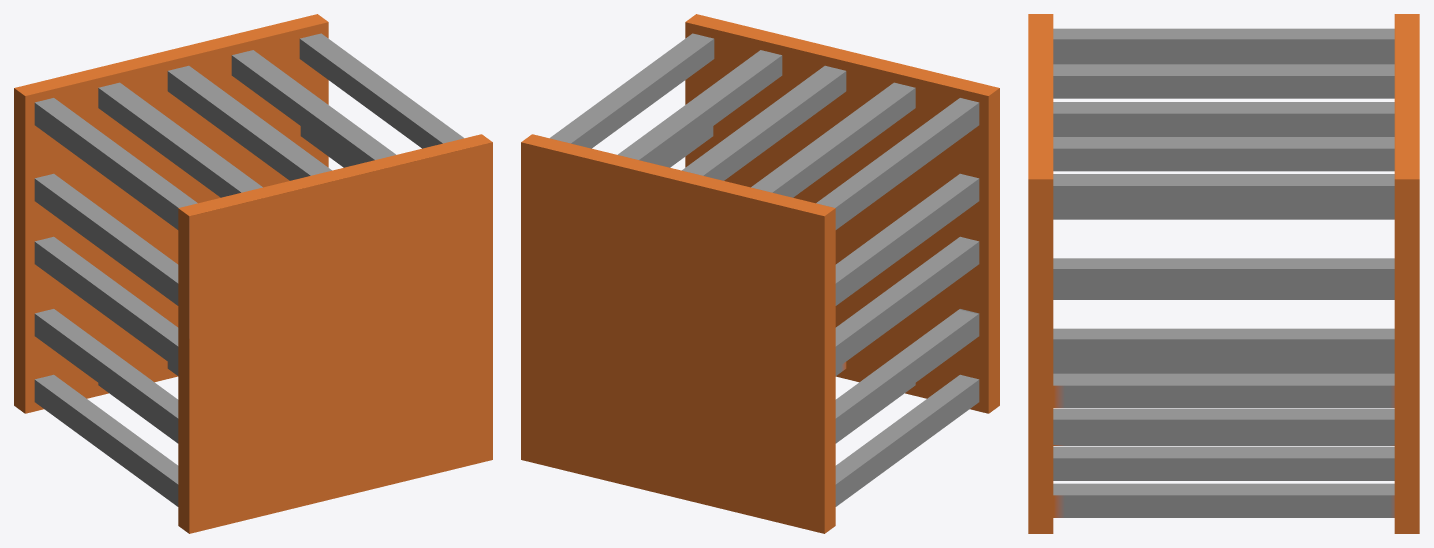
Rendered from cage.obj.
The picture shows the model from 3 angles, left to right: view 1: azimuth 30°, elevation 25°; view 2: azimuth 150°, elevation 25°; view 3: azimuth 270°, elevation 25°; orthographic projection. The views are drawn at different scales.
Parts seen in each view (by area): view 1: Cube.005_Cube.029; view 2: Cube.005_Cube.029; view 3: Cube.005_Cube.029.
Boxes of the visible parts, x1,y1,x2,y2 form: Cube.005_Cube.029: [14, 14, 492, 533]; Cube.005_Cube.029: [521, 14, 999, 533]; Cube.005_Cube.029: [1028, 14, 1419, 533].
Bounding box in the file's own units: 8.25 × 8.25 × 8.25.
1 material, 1 textured.
